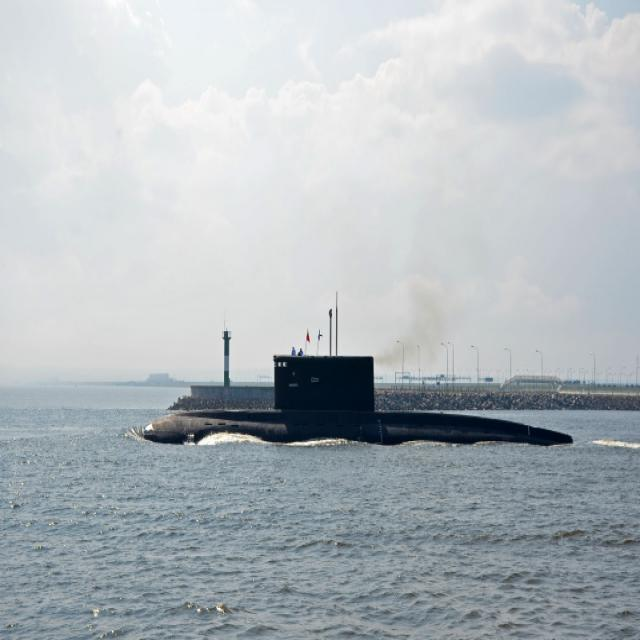submarine: (138, 355, 593, 433)
